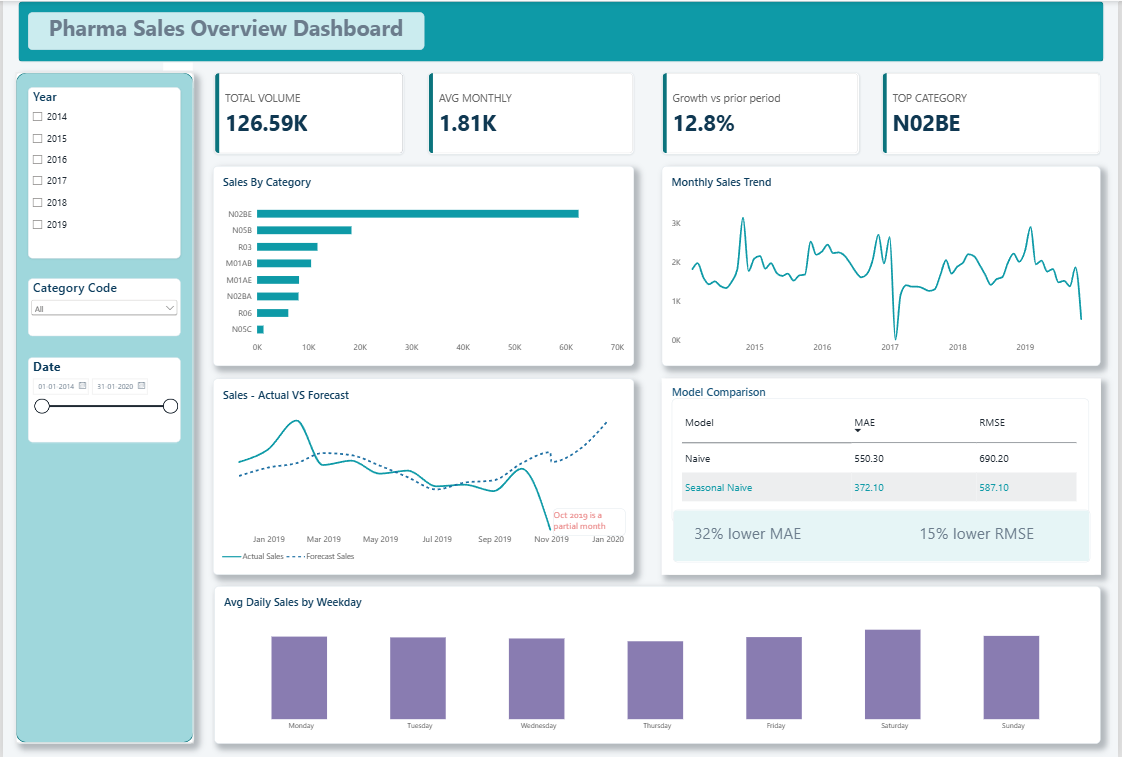

What the dashboard file says about the page in this screenshot:
{"tool":"powerbi","page":{"name":"Page 1","canvas":[1920,1300],"ordinal":0},"visuals":[{"type":"cardVisual","fields":{"Data":["_Measures.Total Sales"]},"box":[363.3,122.5,326.7,141.9],"z":0},{"type":"shape","box":[1132.8,649.1,755,337.5],"z":0,"group":"g1"},{"type":"clusteredBarChart","title":"Sales By Category","fields":{"Category":["Drug Categories.Category Code"],"Y":["_Measures.Total Sales"]},"box":[361.1,283.7,724.4,343.9],"z":1000},{"type":"textbox","box":[1149,659.1,217.5,35],"z":1000,"group":"g1"},{"type":"lineChart","title":"Sales - Actual VS Forecast","fields":{"Category":["forecast_results.sales_date"],"Y":["Sum(forecast_results.actual_sales_volume)","Sum(forecast_results.forecast_sales_volume)"]},"box":[361.1,649.1,724.4,337.5],"z":2000},{"type":"tableEx","fields":{"Values":["Model Label.Model","_Measures.MAE Value","_Measures.RMSE Value"]},"box":[1150.3,684.1,717.5,212.5],"z":2000,"group":"g1"},{"type":"cardVisual","fields":{"Data":["_Measures.Avg Monthly Sales"]},"box":[730.8,122.5,354.7,141.9],"z":3000},{"type":"shape","box":[1151.6,874.1,717.5,90],"z":3000,"group":"g1"},{"type":"cardVisual","fields":{"Data":["_Measures.YoY %"]},"box":[1132.8,122.5,339.6,141.9],"z":4000},{"type":"textbox","box":[1187.8,896.6,230,60],"z":4000,"group":"g1"},{"type":"cardVisual","fields":{"Data":["_Measures.Top Category Name"]},"box":[1511.1,122.5,376.2,141.9],"z":5000},{"type":"textbox","box":[1575.3,896.6,250,60],"z":5000,"group":"g1"},{"type":"lineChart","title":"Monthly Sales Trend","fields":{"Category":["Date.Date"],"Y":["_Measures.Total Sales"]},"box":[1132.8,283.7,754.5,343.9],"z":6000},{"type":"shape","box":[21.5,122.5,307.4,1154.3],"z":7000},{"type":"clusteredColumnChart","title":"Avg Daily Sales by Weekday","fields":{"Category":["pharma_sales_daily_cleaned.sales_weekday"],"Y":["_Measures.Avg Daily Sales by Weekday"]},"box":[363.3,1006,1524,270.8],"z":8000},{"type":"slicer","fields":{"Values":["Date.Date"]},"box":[43,612.6,262.2,146.2],"z":9000},{"type":"slicer","fields":{"Values":["Drug Categories.Category Code"]},"box":[43,477.2,262.2,98.9],"z":10000},{"type":"slicer","fields":{"Values":["Date.Year"]},"box":[43,148.3,262.2,294.5],"z":11000},{"type":"shape","box":[25.8,0,1867.9,105.3],"z":12000},{"type":"textbox","box":[43,19.3,681.4,64.5],"z":13000},{"type":"group","id":"g1","title":"Group 1","box":[1132.8,649.1,754.5,337.5],"z":14000},{"type":"textbox","box":[945.8,872.7,124.7,47.3],"z":16000}]}

Visuals, with their boxes in screenshot pixels (x1, y1, x2, y2), scaled from the page's 1920x1300 canvas onto the 1122x757 screenshot:
cardVisual - _Measures.Total Sales: [x1=212, y1=71, x2=403, y2=154]
shape: [x1=662, y1=378, x2=1103, y2=575]
"Sales By Category" clusteredBarChart: [x1=211, y1=165, x2=634, y2=365]
textbox: [x1=671, y1=384, x2=799, y2=404]
"Sales - Actual VS Forecast" lineChart: [x1=211, y1=378, x2=634, y2=575]
tableEx - Model Label.Model x _Measures.MAE Value: [x1=672, y1=398, x2=1091, y2=522]
cardVisual - _Measures.Avg Monthly Sales: [x1=427, y1=71, x2=634, y2=154]
shape: [x1=673, y1=509, x2=1092, y2=561]
cardVisual - _Measures.YoY %: [x1=662, y1=71, x2=860, y2=154]
textbox: [x1=694, y1=522, x2=829, y2=557]
cardVisual - _Measures.Top Category Name: [x1=883, y1=71, x2=1103, y2=154]
textbox: [x1=921, y1=522, x2=1067, y2=557]
"Monthly Sales Trend" lineChart: [x1=662, y1=165, x2=1103, y2=365]
shape: [x1=13, y1=71, x2=192, y2=743]
"Avg Daily Sales by Weekday" clusteredColumnChart: [x1=212, y1=586, x2=1103, y2=743]
slicer - Date.Date: [x1=25, y1=357, x2=178, y2=442]
slicer - Drug Categories.Category Code: [x1=25, y1=278, x2=178, y2=335]
slicer - Date.Year: [x1=25, y1=86, x2=178, y2=258]
shape: [x1=15, y1=0, x2=1107, y2=61]
textbox: [x1=25, y1=11, x2=423, y2=49]
"Group 1" group: [x1=662, y1=378, x2=1103, y2=575]
textbox: [x1=553, y1=508, x2=626, y2=536]
